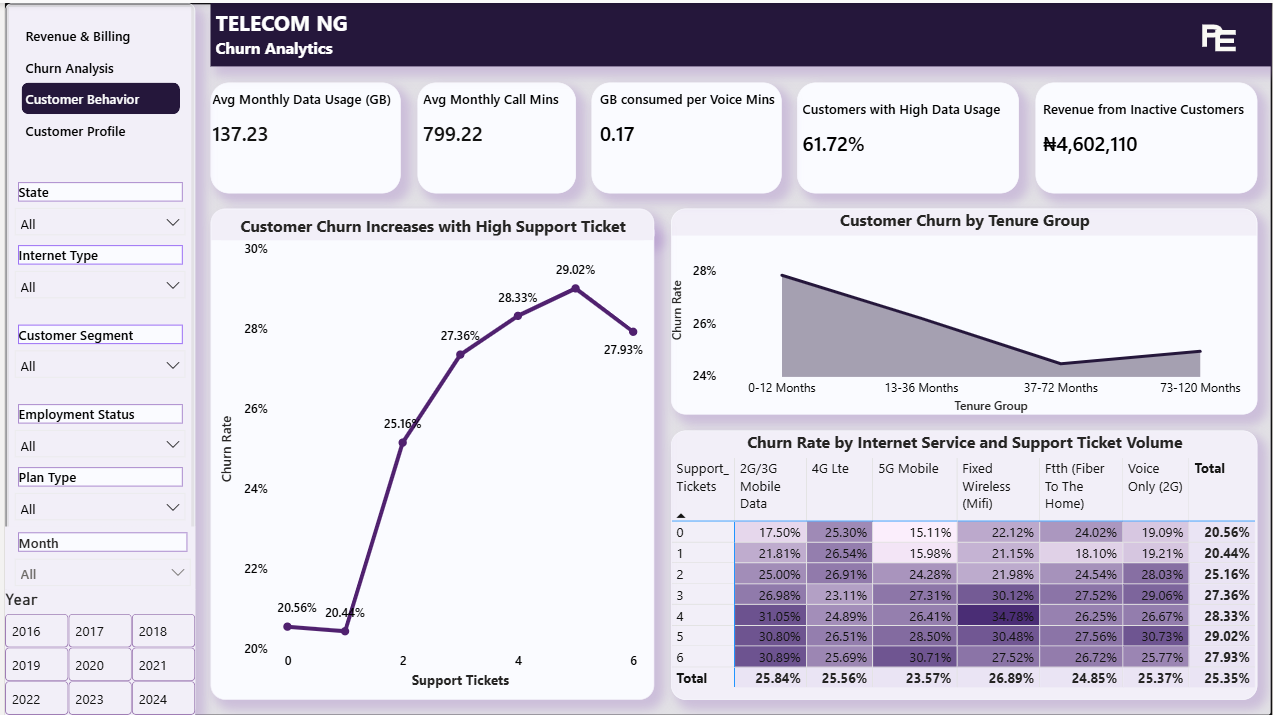

What the dashboard file says about the page in this screenshot:
{"tool":"powerbi","page":{"name":"Customer Behavior","canvas":[1280,720],"ordinal":2},"visuals":[{"type":"cardVisual","fields":{"Data":["Measures..Avg Monthly Data Usage"]},"box":[208,80,192,112],"z":0},{"type":"cardVisual","fields":{"Data":["Measures..Avg Monthly Call Minutes"]},"box":[416,80,160,112],"z":1000},{"type":"shape","box":[0,0,192,720],"z":2000},{"type":"actionButton","box":[16,48,160,32],"z":3000},{"type":"actionButton","box":[16,80,160,32],"z":4000},{"type":"actionButton","box":[16,16,160,32],"z":5000},{"type":"textbox","box":[208,0,1072,64],"z":6000},{"type":"image","box":[1184,0,64,64],"z":7000},{"type":"slicer","fields":{"Values":["TelecomChurn_Nigeria_Clean.Employment_Status"]},"box":[0,400,192,64],"z":8000},{"type":"cardVisual","fields":{"Data":["Measures..Heavy Data User Share (%)"]},"box":[800,80,224,112],"z":9000},{"type":"decompositionTreeVisual","title":"Customer Satisfaction and Churn Analysis","fields":{"Analyze":["Measures..Churn Rate"],"ExplainBy":["TelecomChurn_Nigeria_Clean.Customer_Segment","TelecomChurn_Nigeria_Clean.Internet_Type"]},"box":[560,224,96,16],"z":11000},{"type":"areaChart","title":"Customer Churn by Tenure Group","fields":{"Y":["Measures..Churn Rate"],"Category":["TelecomChurn_Nigeria_Clean.Tenure Group"]},"box":[672,208,592,208],"z":12000},{"type":"pivotTable","title":"Churn Rate by Internet Service and Support Ticket Volume","fields":{"Rows":["TelecomChurn_Nigeria_Clean.Support_Tickets"],"Columns":["TelecomChurn_Nigeria_Clean.Internet_Type"],"Values":["Measures..Churn Rate"]},"box":[672,432,592,272],"z":13000},{"type":"cardVisual","fields":{"Data":["Measures..Revenue from Inactive Customers"]},"box":[1040,80,224,112],"z":14000},{"type":"cardVisual","fields":{"Data":["Measures..Data to Voice Usage Ratio"]},"box":[592,80,192,112],"z":15000},{"type":"slicer","fields":{"Values":["TelecomChurn_Nigeria_Clean.State."]},"box":[0,176,192,64],"z":16000},{"type":"slicer","fields":{"Values":["TelecomChurn_Nigeria_Clean.Internet_Type"]},"box":[0,240,192,64],"z":17000},{"type":"slicer","fields":{"Values":["TelecomChurn_Nigeria_Clean.Customer_Segment"]},"box":[0,320,192,64],"z":18000},{"type":"slicer","fields":{"Values":["TelecomChurn_Nigeria_Clean.Plan_Type"]},"box":[0,464,192,64],"z":19000},{"type":"slicer","fields":{"Values":["Date Table.Month"]},"box":[0,528,192,64],"z":20000},{"type":"advancedSlicerVisual","fields":{"Values":["Date Table.Year"]},"box":[0,592,192,128],"z":21000},{"type":"actionButton","box":[16,112,176,32],"z":22000},{"type":"lineChart","title":"Customer Churn Increases with High Support Ticket","fields":{"Y":["Measures..Churn Rate"],"Category":["TelecomChurn_Nigeria_Clean.Support_Tickets"]},"box":[208,208,448,496],"z":22001}]}

Visuals, with their boxes in screenshot pixels (x1, y1, x2, y2), scaled from the page's 1280x720 canvas onto the 1273x715 screenshot:
cardVisual - Measures..Avg Monthly Data Usage: (207, 79, 398, 191)
cardVisual - Measures..Avg Monthly Call Minutes: (414, 79, 573, 191)
shape: (0, 0, 191, 714)
actionButton: (16, 48, 175, 79)
actionButton: (16, 79, 175, 111)
actionButton: (16, 16, 175, 48)
textbox: (207, 0, 1272, 64)
image: (1178, 0, 1241, 64)
slicer - TelecomChurn_Nigeria_Clean.Employment_Status: (0, 397, 191, 461)
cardVisual - Measures..Heavy Data User Share (%): (796, 79, 1018, 191)
"Customer Satisfaction and Churn Analysis" decompositionTreeVisual: (557, 222, 652, 238)
"Customer Churn by Tenure Group" areaChart: (668, 207, 1257, 413)
"Churn Rate by Internet Service and Support Ticket Volume" pivotTable: (668, 429, 1257, 699)
cardVisual - Measures..Revenue from Inactive Customers: (1034, 79, 1257, 191)
cardVisual - Measures..Data to Voice Usage Ratio: (589, 79, 780, 191)
slicer - TelecomChurn_Nigeria_Clean.State.: (0, 175, 191, 238)
slicer - TelecomChurn_Nigeria_Clean.Internet_Type: (0, 238, 191, 302)
slicer - TelecomChurn_Nigeria_Clean.Customer_Segment: (0, 318, 191, 381)
slicer - TelecomChurn_Nigeria_Clean.Plan_Type: (0, 461, 191, 524)
slicer - Date Table.Month: (0, 524, 191, 588)
advancedSlicerVisual - Date Table.Year: (0, 588, 191, 714)
actionButton: (16, 111, 191, 143)
"Customer Churn Increases with High Support Ticket" lineChart: (207, 207, 652, 699)
